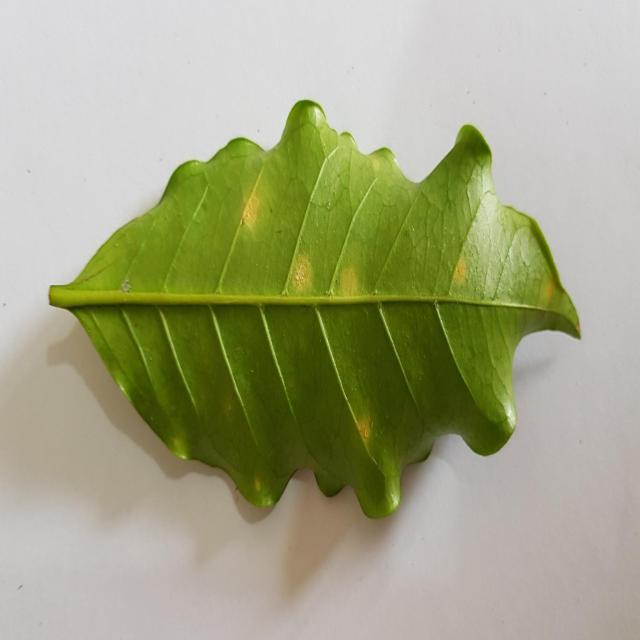rust: (449, 247, 475, 300), (238, 176, 260, 232), (285, 252, 313, 295), (353, 415, 373, 452)
